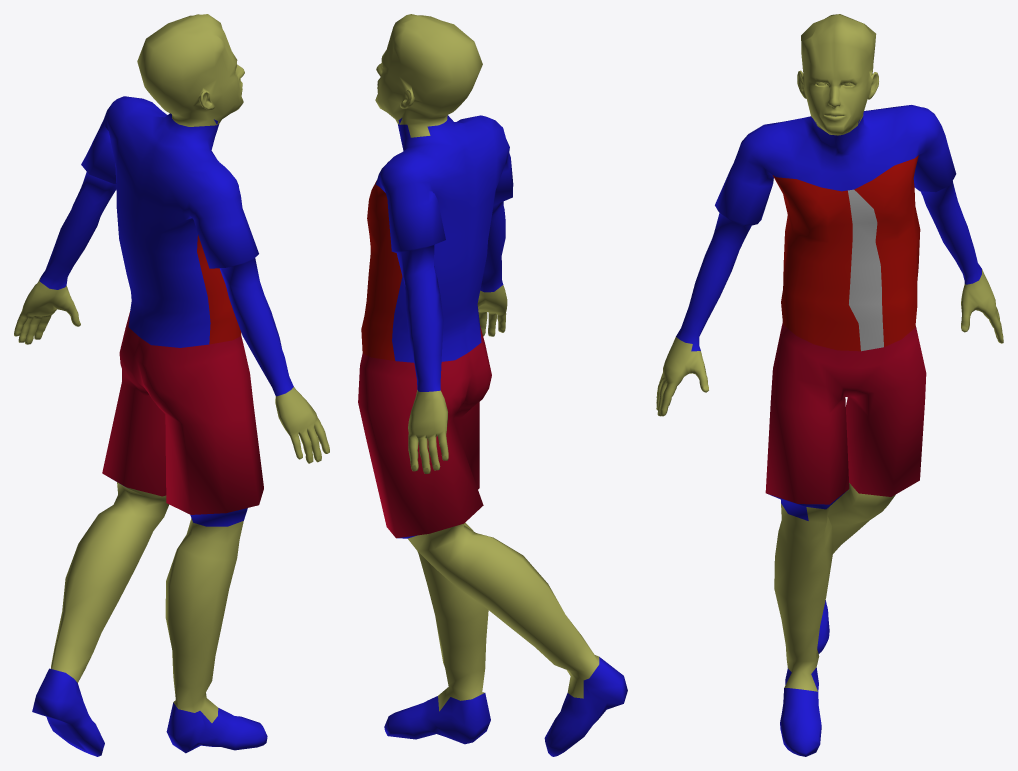
File: player_000022.obj
The picture shows the model from 3 angles, left to right: view 1: azimuth 30°, elevation 25°; view 2: azimuth 150°, elevation 25°; view 3: azimuth 270°, elevation 25°; orthographic projection. The views are drawn at different scales.
Visible parts, largest first — view 1: soccerplayer_mesh; view 2: soccerplayer_mesh; view 3: soccerplayer_mesh.
Boxes of the visible parts, x1,y1,x2,y2 form: soccerplayer_mesh: (14,14,329,756); soccerplayer_mesh: (358,14,627,756); soccerplayer_mesh: (656,14,1003,756).
Size of the model in its own units: 1.84 by 5.45 by 2.41.
